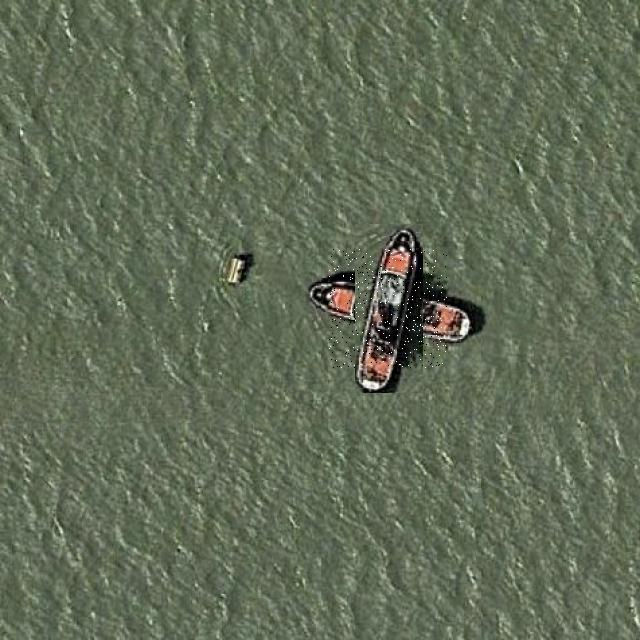boat: (329, 249, 448, 368)
